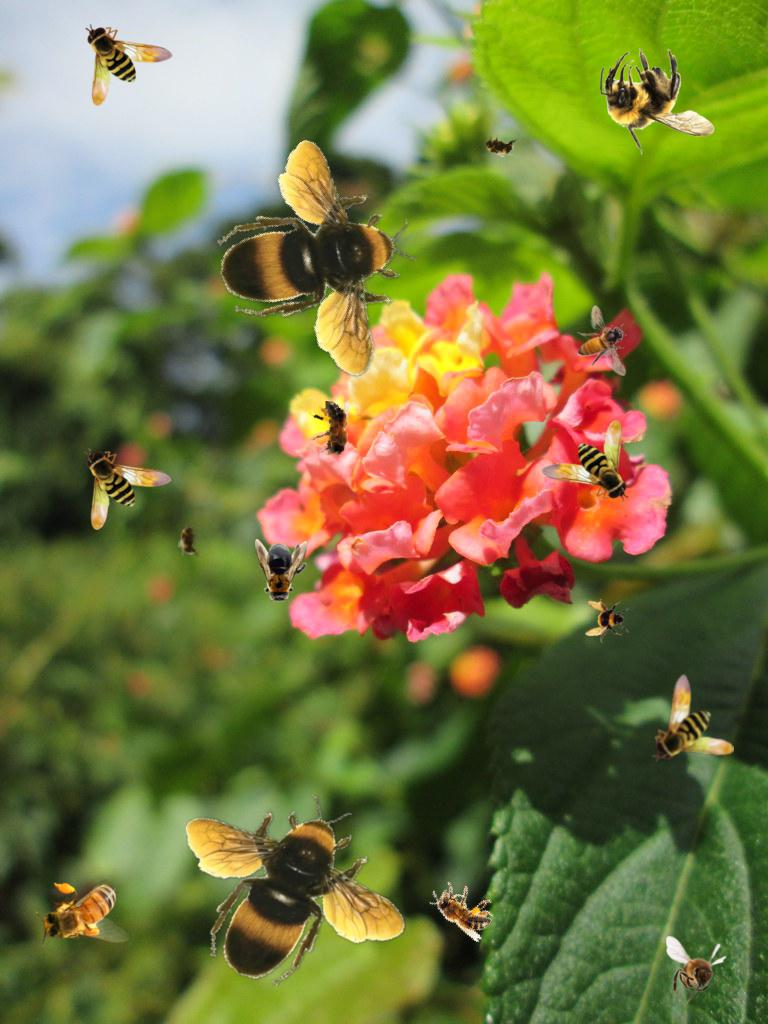Bee: (178, 120, 466, 413), (186, 795, 406, 986), (600, 48, 715, 155), (84, 448, 172, 530), (652, 674, 734, 762), (541, 420, 629, 502), (85, 24, 173, 106), (36, 879, 129, 947), (421, 873, 501, 944), (666, 936, 727, 1006), (305, 397, 359, 468), (577, 305, 627, 376), (255, 539, 307, 607), (585, 599, 629, 643), (477, 131, 521, 161), (178, 520, 200, 560)
